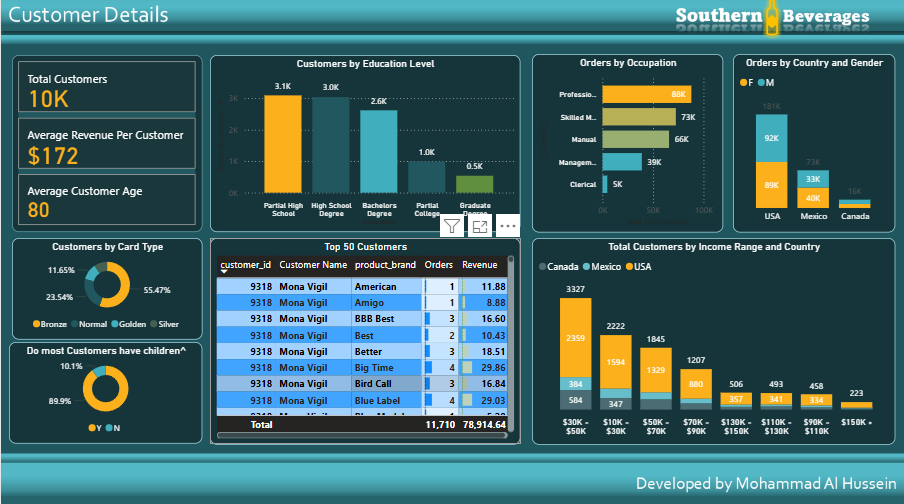

What the dashboard file says about the page in this screenshot:
{"tool":"powerbi","page":{"name":"Customer Details","canvas":[1280,720],"ordinal":2},"visuals":[{"type":"cardVisual","fields":{"Data":["_Measures.Total Customers","_Measures.Average Revenue Per Customer","Customers.Current Age"]},"box":[15.7,82.8,269.7,251.1],"z":0},{"type":"columnChart","title":"Orders by  Country and Gender ","fields":{"Category":["Stores.store_country"],"Y":["_Measures.Total Transactions"],"Series":["Customers.gender"]},"box":[1037.4,81.3,229.7,252.6],"z":1000},{"type":"columnChart","title":"Customers by Education Level","fields":{"Category":["Customers.education"],"Y":["Customers.customer_id"]},"box":[296.8,82.8,439.5,251.1],"z":2000},{"type":"clusteredBarChart","title":"Orders by Occupation","fields":{"Category":["Customers.occupation"],"Y":["_Measures.Total Transactions"]},"box":[752,81.3,271.1,252.6],"z":4000},{"type":"columnChart","title":"Total Customers by Income  Range and  Country","fields":{"Category":["Customers.yearly_income"],"Y":["Customers.customer_id"],"Series":["Customers.customer_country"]},"box":[752,341,515.1,292.5],"z":5000},{"type":"donutChart","title":"Do most Customers have children^","fields":{"Category":["Customers.has_children"],"Y":["Customers.customer_id"]},"box":[11.4,489.5,274,144.1],"z":6000},{"type":"donutChart","title":"Customers by Card Type","fields":{"Category":["Customers.member_card"],"Y":["Customers.customer_id"]},"box":[15.7,341,269.7,144.1],"z":7000},{"type":"tableEx","title":"Top 50 Customers","fields":{"Values":["Customers.customer_id","Customers.Full _Name","Products.product_brand","_Measures.Total Transactions","_Measures.Total Revenue"]},"box":[296.8,341,439.5,292.5],"z":8000}]}

Visuals, with their boxes in screenshot pixels (x1, y1, x2, y2), scaled from the page's 1280x720 canvas onto the 904x504 screenshot:
cardVisual - _Measures.Total Customers x _Measures.Average Revenue Per Customer: 11:58:202:234
"Orders by  Country and Gender " columnChart: 733:57:895:234
"Customers by Education Level" columnChart: 210:58:520:234
"Orders by Occupation" clusteredBarChart: 531:57:723:234
"Total Customers by Income  Range and  Country" columnChart: 531:239:895:443
"Do most Customers have children^" donutChart: 8:343:202:444
"Customers by Card Type" donutChart: 11:239:202:340
"Top 50 Customers" tableEx: 210:239:520:443
